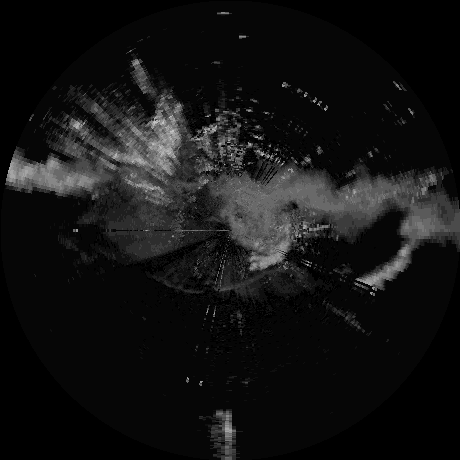frontgust: (217, 265, 287, 291), (147, 273, 203, 291)
